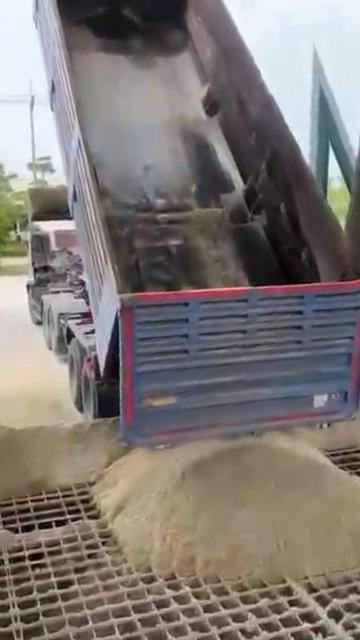sand: (96, 433, 360, 581), (0, 417, 126, 499), (295, 387, 360, 453), (289, 580, 352, 640), (2, 519, 96, 553)
